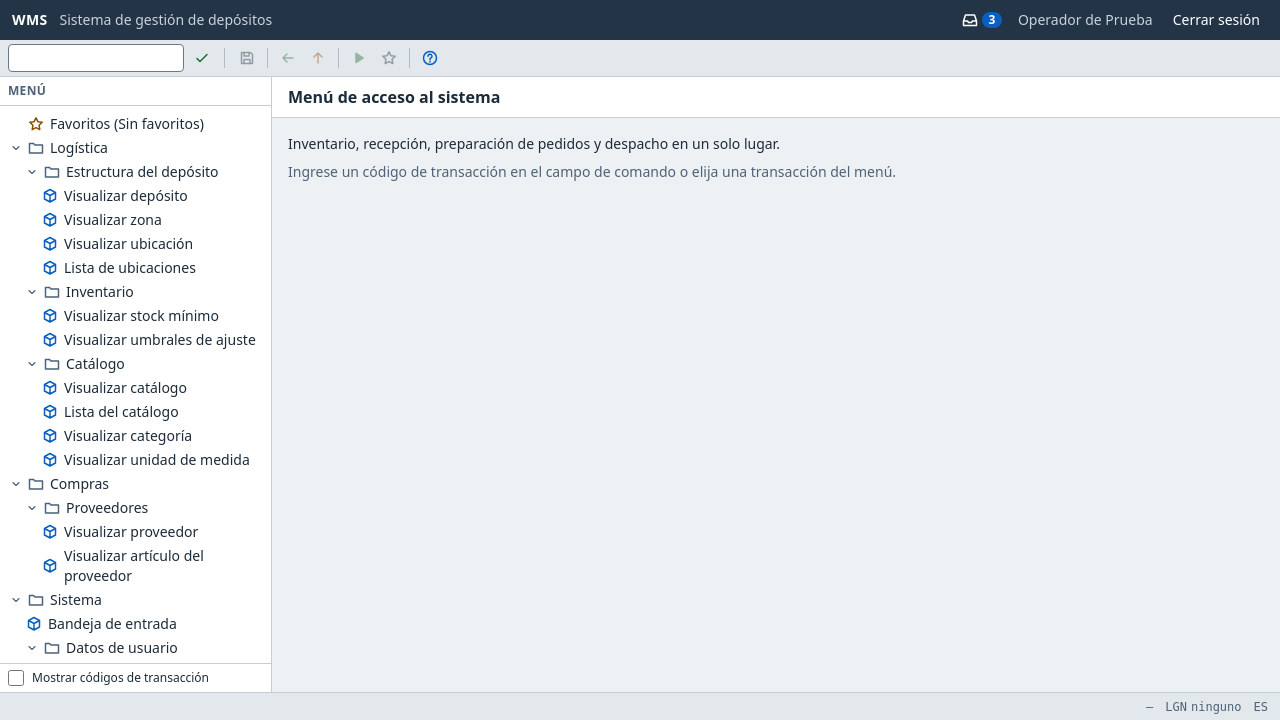
Test case: contador de no leídos › muestra los no leídos en el encabezado y abre la bandeja
This screenshot has width=1280, height=720.
Click the link named "Bandeja de entrada: 3 mensajes no leídos" at (982, 20), box [962,12,1002,28]
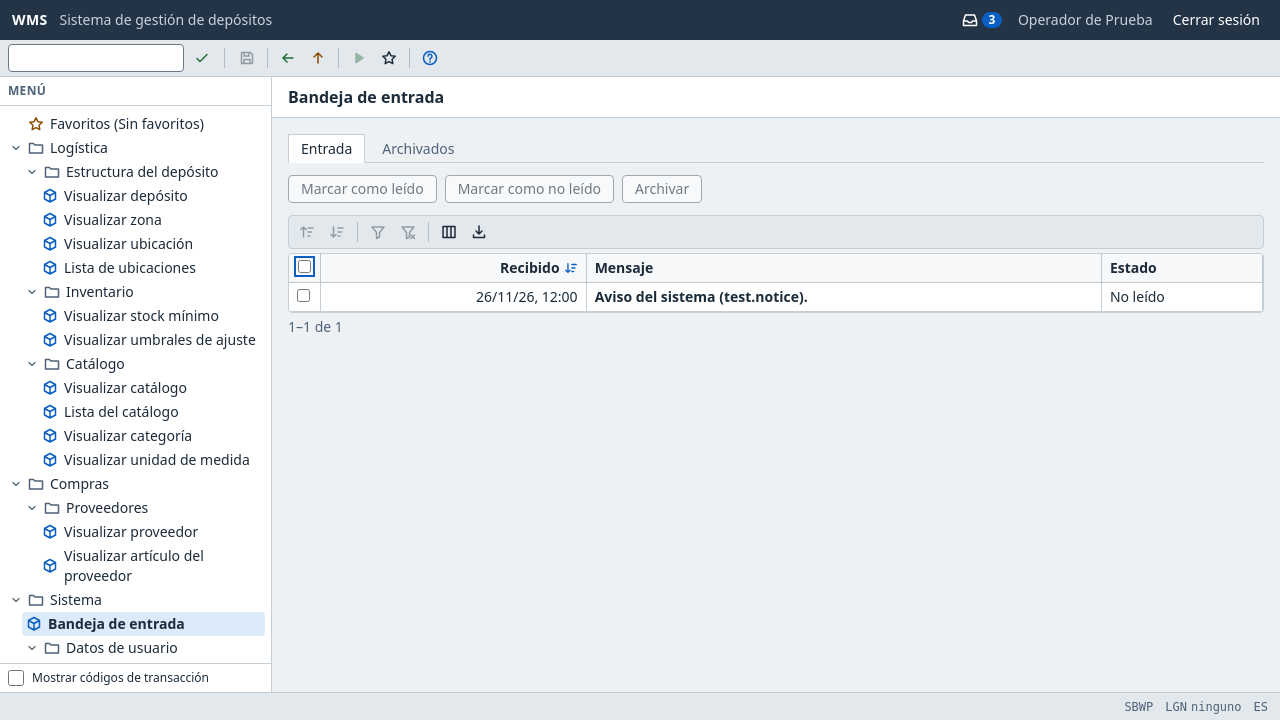
Expected: the heading "Bandeja de entrada" is shown, [288,85,444,109]
